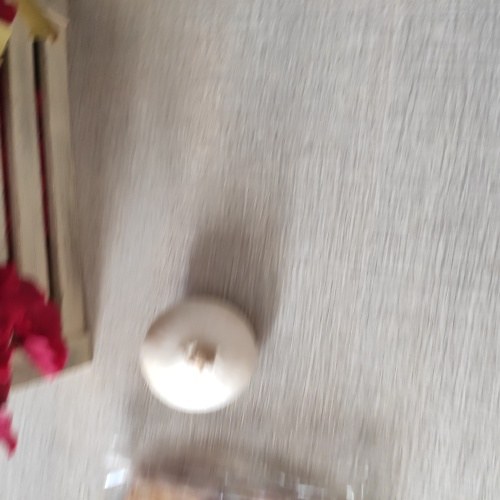cipolla: (132, 288, 278, 421)
